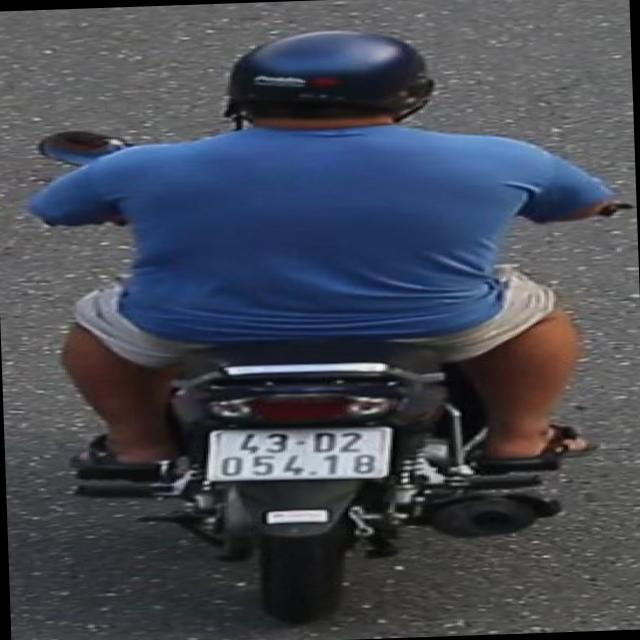LP: (198, 414, 400, 488)
helmet: (214, 20, 449, 140)
